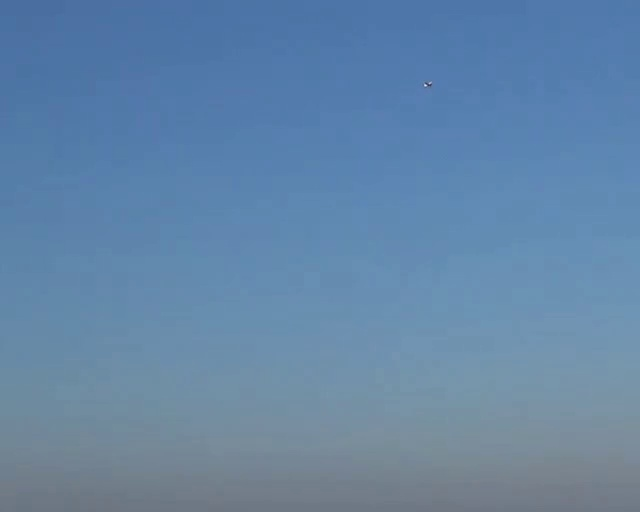AIRPLANE: (423, 80, 433, 88)
